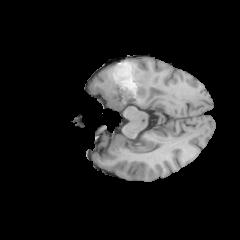glioma: (98, 60, 151, 107)
